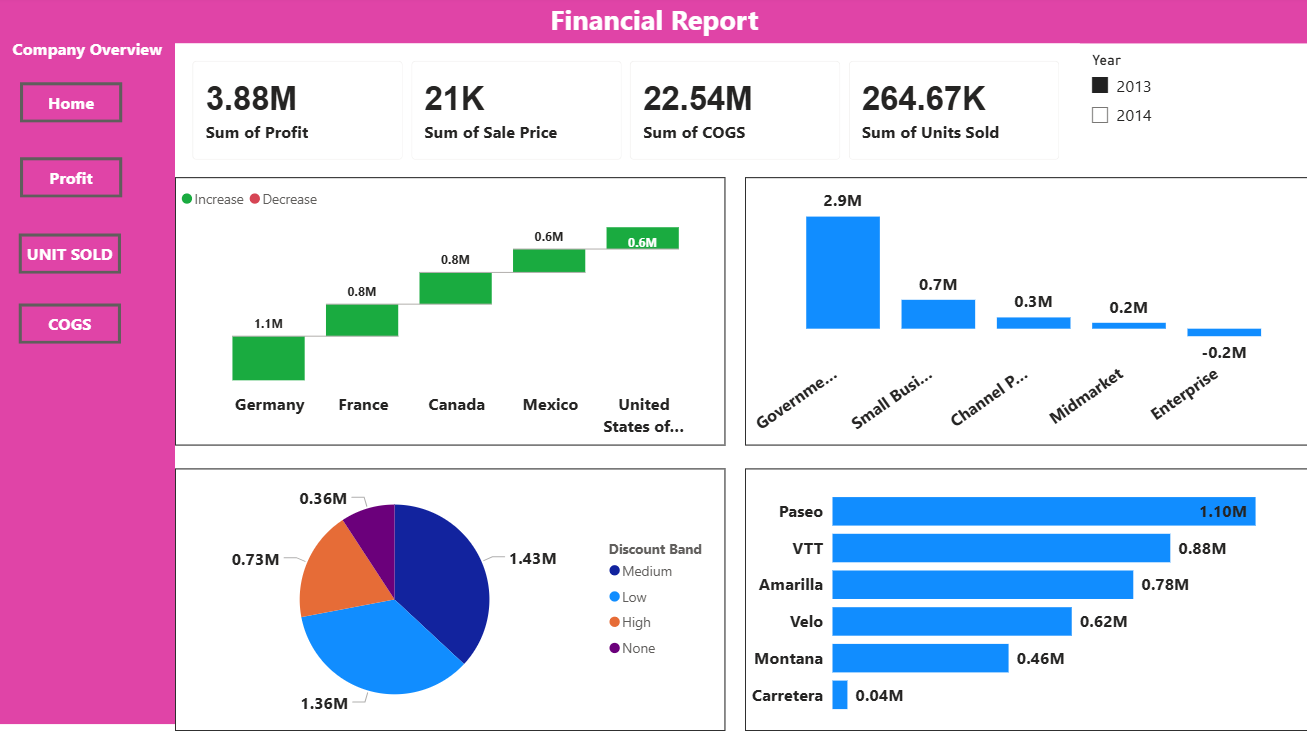

The page's visual inventory and layout, read from the dashboard file:
{"tool":"powerbi","page":{"name":"Profit","canvas":[1280,720],"ordinal":1},"visuals":[{"type":"textbox","box":[0,0,1280.2,46.5],"z":0},{"type":"textbox","box":[0,34.9,170.9,676.7],"z":1000},{"type":"actionButton","box":[19.8,84.9,100,39.5],"z":2000},{"type":"actionButton","box":[19.8,158.1,100,39.5],"z":3000},{"type":"actionButton","box":[18.6,232.6,100,39.5],"z":4000},{"type":"actionButton","box":[18.6,301.2,100,39.5],"z":5000},{"type":"pieChart","fields":{"Category":["financials.Discount Band"],"Y":["Sum(financials.Profit)"]},"box":[170.9,462.8,538.4,257],"z":6000},{"type":"cardVisual","fields":{"Data":["Sum(financials.Profit)","Sum(financials.Sale Price)","Sum(financials.COGS)","Sum(financials.Units Sold)"]},"box":[170.9,46.5,884.9,131.4],"z":8000},{"type":"slicer","fields":{"Values":["financials.Date.Variation.Date Hierarchy.Year"]},"box":[1055.8,48.8,224.4,129.1],"z":9000},{"type":"waterfallChart","fields":{"Category":["financials.Country"],"Y":["Sum(financials.Profit)"]},"box":[170.9,177.9,538.4,262.8],"z":10000},{"type":"clusteredColumnChart","fields":{"Y":["Sum(financials.Profit)"],"Category":["financials.Segment"]},"box":[729.1,177.9,551.2,262.8],"z":11000},{"type":"barChart","fields":{"Category":["financials.Product"],"Y":["Sum(financials.Profit)"]},"box":[729.1,462.8,551.2,257],"z":12000}]}

Visuals, with their boxes in screenshot pixels (x1, y1, x2, y2), scaled from the page's 1280x720 canvas onto the 1307x731 screenshot:
textbox: <box>0,0,1306,47</box>
textbox: <box>0,35,175,722</box>
actionButton: <box>20,86,122,126</box>
actionButton: <box>20,161,122,201</box>
actionButton: <box>19,236,121,276</box>
actionButton: <box>19,306,121,346</box>
pieChart - financials.Discount Band x Sum(financials.Profit): <box>175,470,724,730</box>
cardVisual - Sum(financials.Profit) x Sum(financials.Sale Price): <box>175,47,1078,181</box>
slicer - financials.Date.Variation.Date Hierarchy.Year: <box>1078,50,1306,181</box>
waterfallChart - financials.Country x Sum(financials.Profit): <box>175,181,724,447</box>
clusteredColumnChart - Sum(financials.Profit) x financials.Segment: <box>744,181,1306,447</box>
barChart - financials.Product x Sum(financials.Profit): <box>744,470,1306,730</box>
